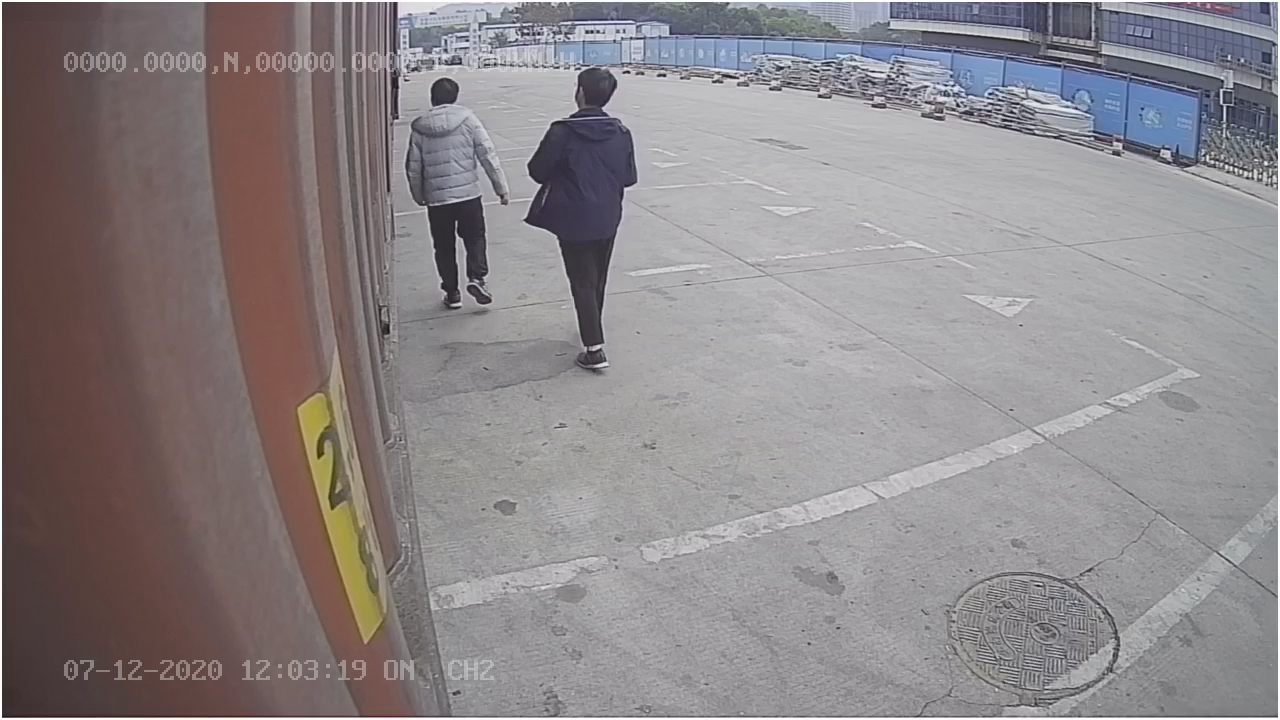person: (524, 56, 638, 378), (404, 68, 510, 310)
